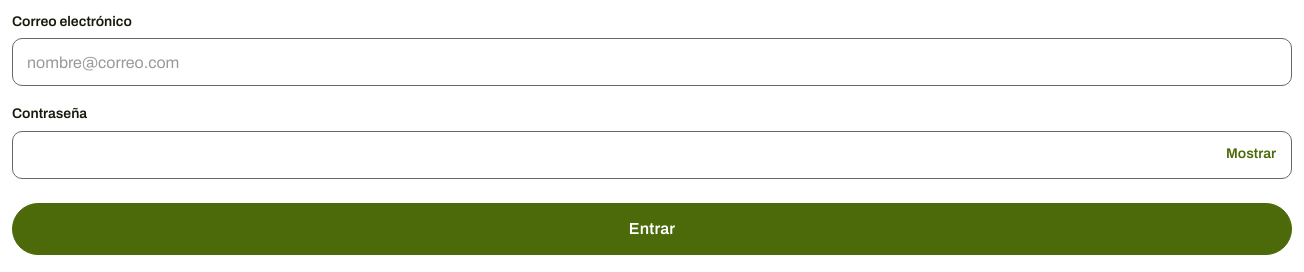
Scenario: LoginForm: password and pending state › shows the password without sending the form
In the field labelled "Correo electrónico": point(652, 62) left=12, top=38, right=1292, bottom=86, type "ana@example.test"
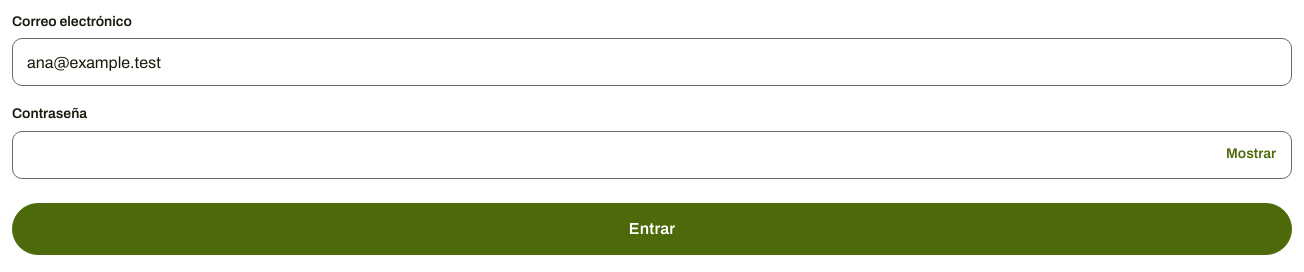
In the password field labelled "Contraseña": point(652, 155) left=12, top=131, right=1292, bottom=179, type "a-long-enough-pass"
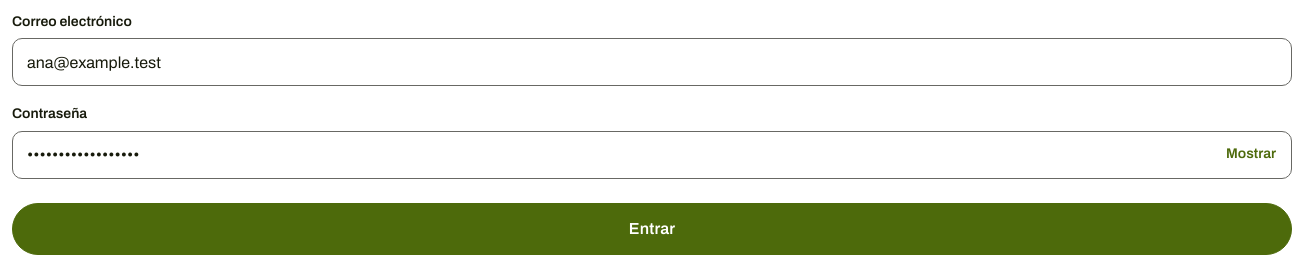
Click the button "Mostrar": point(1251, 155) left=1214, top=133, right=1288, bottom=177
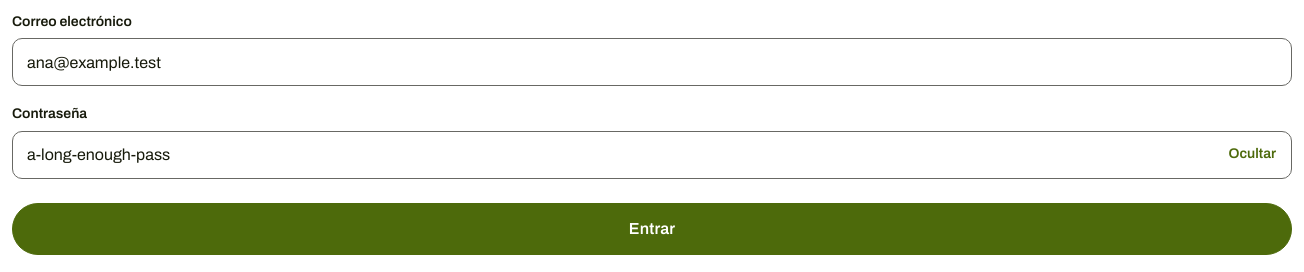
Expected: the field labelled "Contraseña" shows its text, left=12, top=131, right=1292, bottom=179
